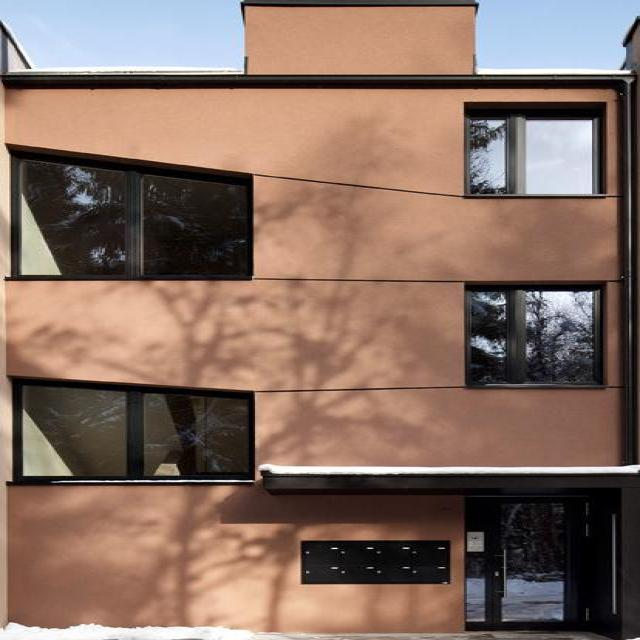door: (466, 495, 587, 627)
window: (16, 152, 248, 278), (17, 378, 255, 481), (467, 287, 603, 386), (466, 110, 593, 196)
